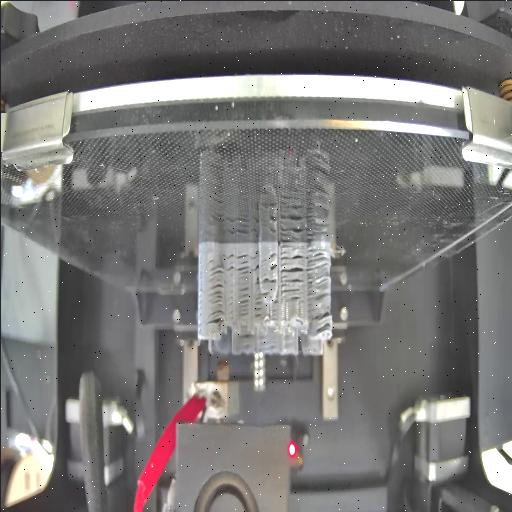cracks: (304, 244, 332, 302), (204, 258, 226, 326), (280, 246, 302, 301), (250, 246, 278, 286), (235, 254, 248, 314), (308, 310, 331, 334), (196, 248, 202, 335), (252, 288, 278, 306), (234, 332, 254, 347), (224, 250, 234, 272), (252, 306, 262, 318), (258, 344, 276, 350), (293, 316, 303, 324)
